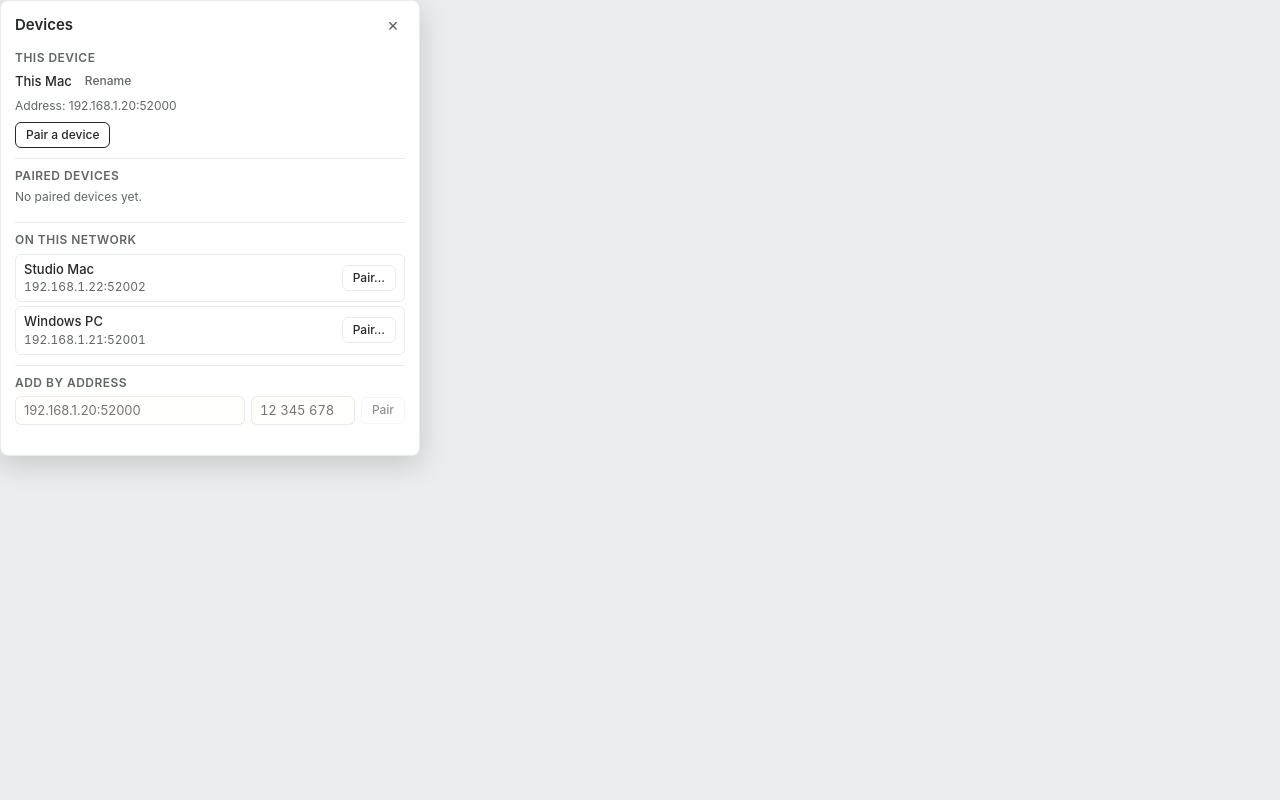
Test: DevicesDialog › pairs by address
Step 1. Type "10.0.0.5:52010" into the field with test id "devices-address-input" → {"x": 130, "y": 410}, box [15,396,245,425]
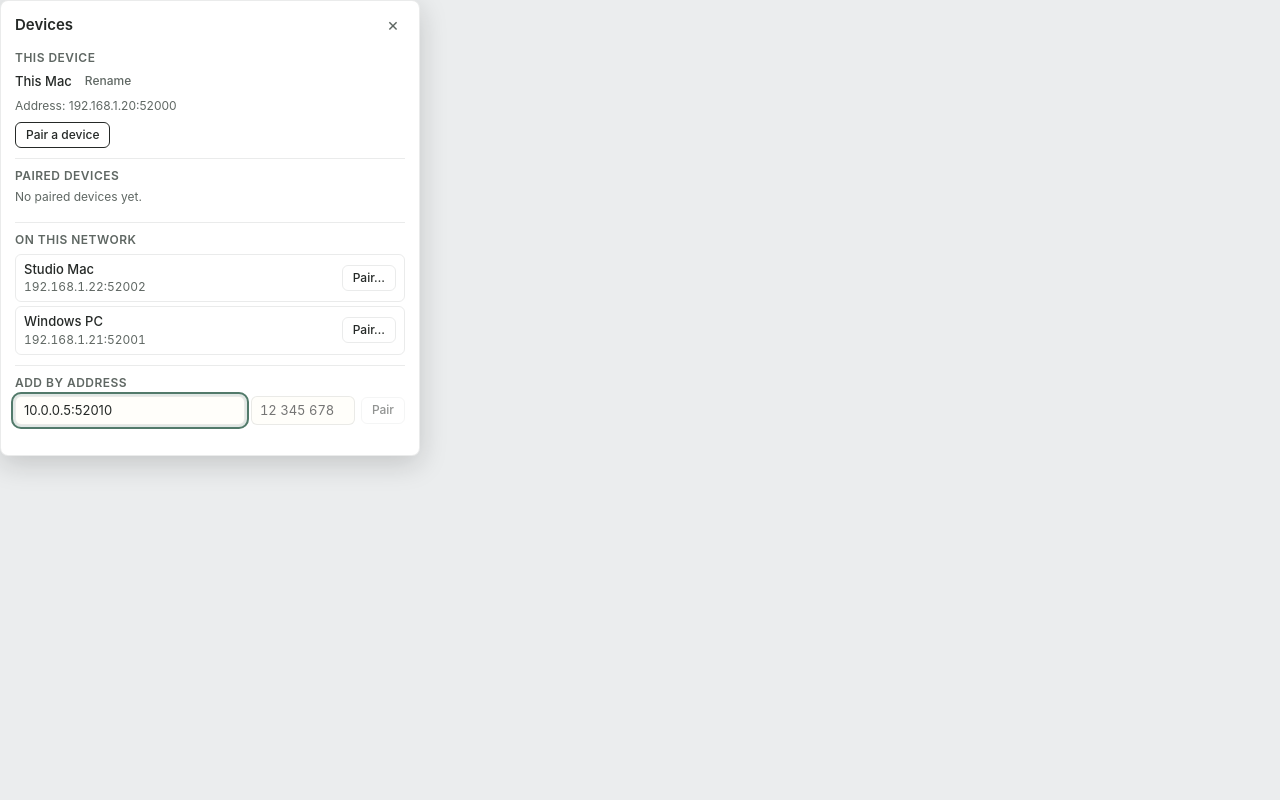
Expected: the button with test id "devices-address-submit" is disabled, [361,397,405,424]
Step 2. Type "12345678" into the field with test id "devices-address-code" → {"x": 303, "y": 410}, box [251,396,355,425]
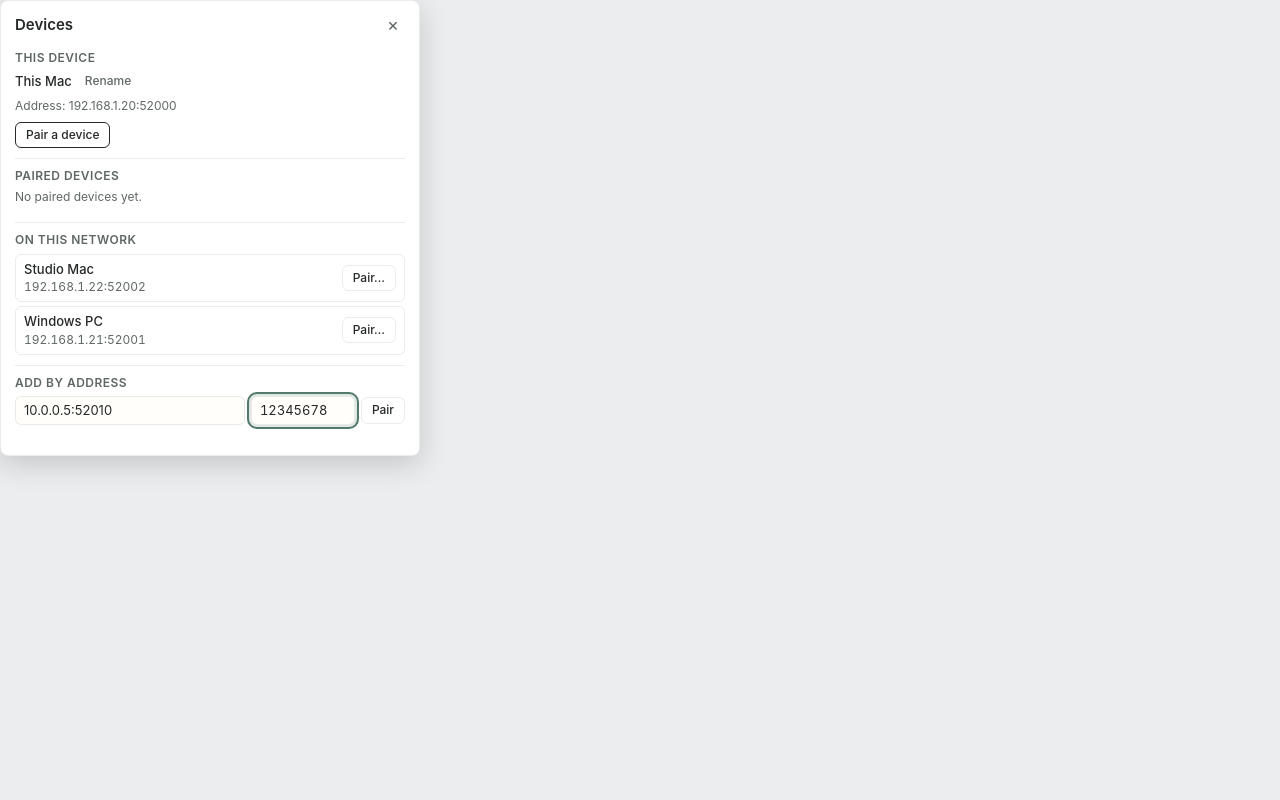
Step 3. Click the button with test id "devices-address-submit" → {"x": 383, "y": 410}, box [361,397,405,424]
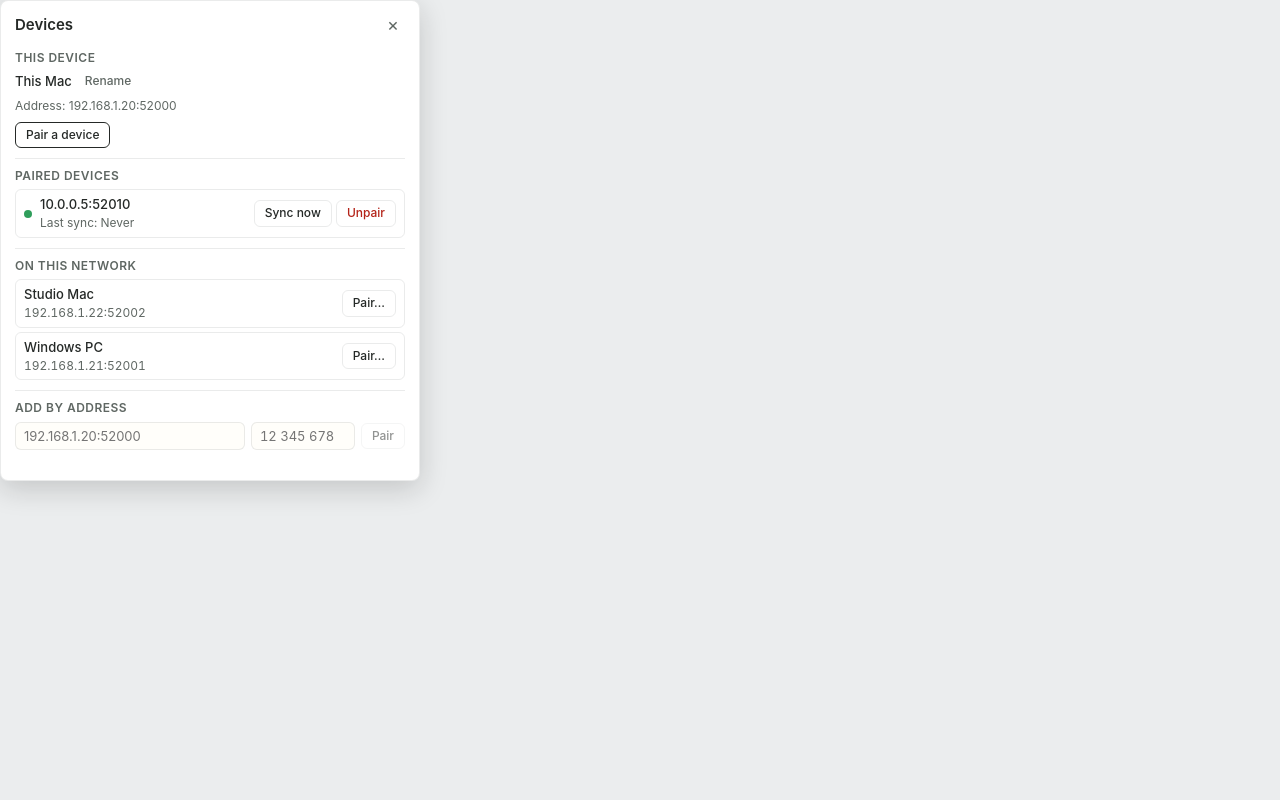
Now the list item with test id "paired-row" shows "10.0.0.5:52010", box [40,196,130,212]
